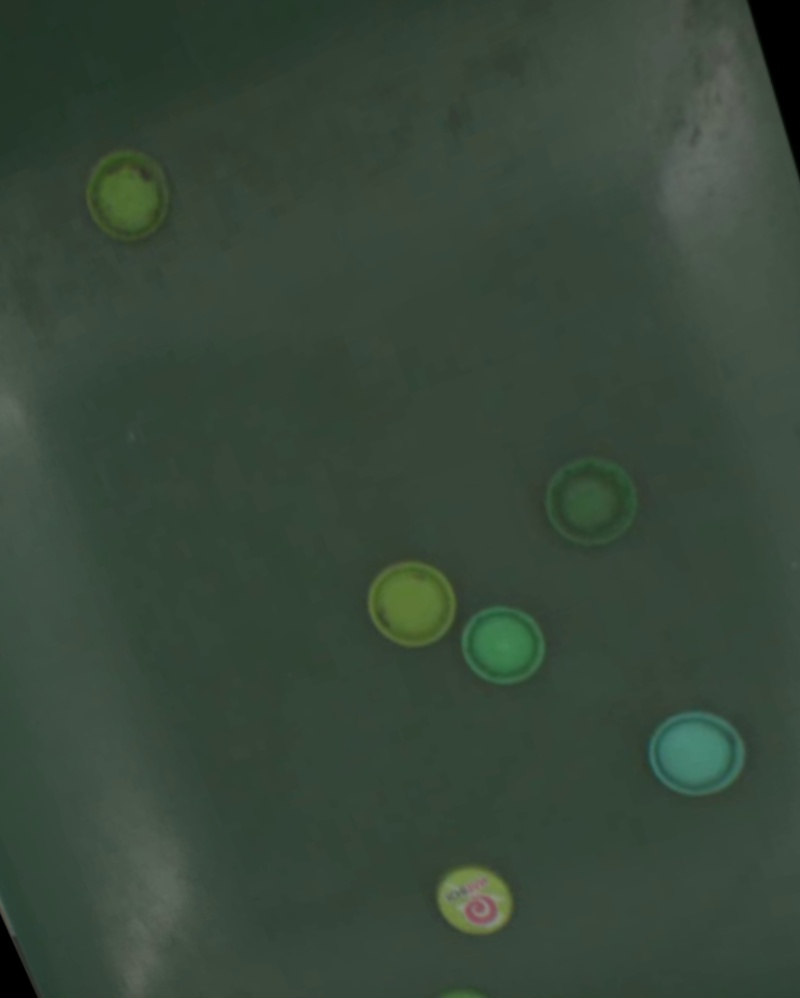Others: (528, 441, 651, 558), (69, 132, 185, 254), (352, 548, 471, 656), (636, 700, 758, 805), (447, 594, 560, 694), (423, 854, 526, 944)
